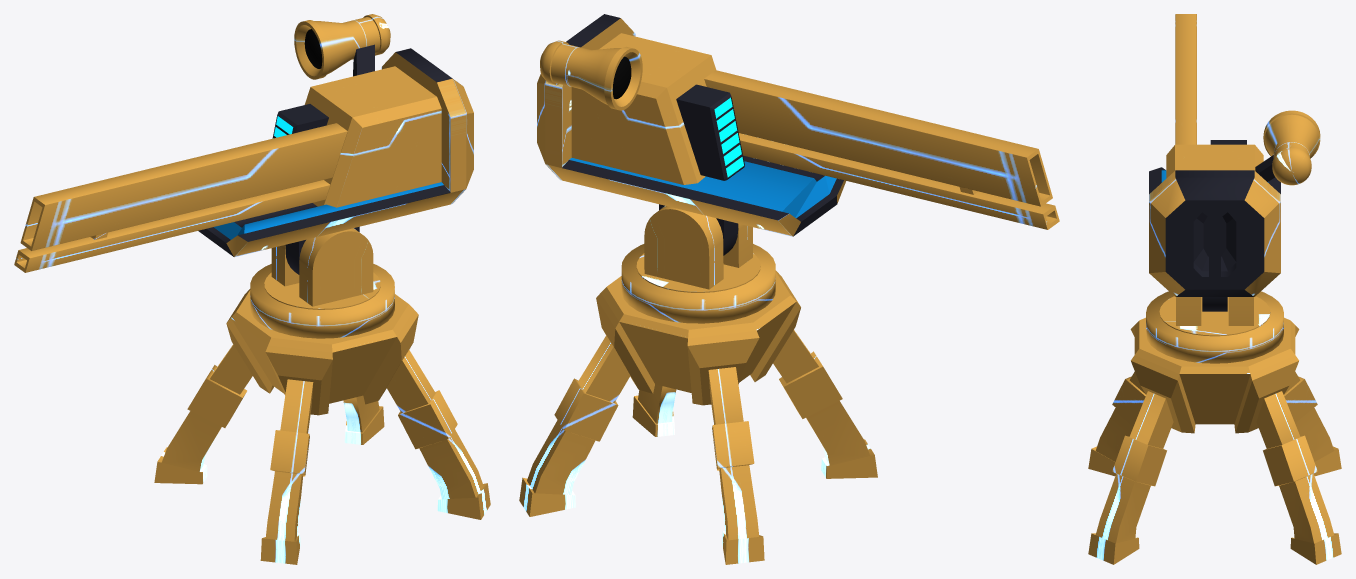
File: RailgunTurret.fbx
3 views of the same model, side by side, from view 1: azimuth 30°, elevation 25°; view 2: azimuth 150°, elevation 25°; view 3: azimuth 270°, elevation 25° (orthographic). The views are drawn at different scales.
Parts seen in each view (by area): view 1: Cube.004, Cube.003, Cube.001, Cube, Cylinder.001, Cylinder.002, Cylinder.005, Cube.006; view 2: Cube.004, Cube.003, Cube.001, Cylinder.001, Cube, Cylinder.002, Cylinder.005, Cube.006; view 3: Cube.003, Cylinder.001, Cube.001, Cylinder.005, Cylinder.002, Cube.004, Cube.
Part boxes in pixels (x1,y1,x2,y2): Cube.004: [14, 123, 347, 272]; Cube.003: [154, 344, 490, 564]; Cube.001: [226, 264, 418, 415]; Cube: [304, 66, 441, 207]; Cylinder.001: [198, 48, 473, 274]; Cylinder.002: [264, 228, 380, 309]; Cylinder.005: [294, 14, 390, 79]; Cube.006: [272, 104, 328, 138]; Cube.004: [704, 70, 1059, 229]; Cube.003: [519, 330, 877, 564]; Cube.001: [596, 244, 800, 405]; Cylinder.001: [537, 14, 845, 255]; Cube: [571, 33, 716, 184]; Cylinder.002: [636, 206, 760, 292]; Cylinder.005: [540, 40, 642, 110]; Cube.006: [676, 84, 744, 180]; Cube.003: [1088, 371, 1341, 564]; Cylinder.001: [1149, 167, 1280, 311]; Cube.001: [1130, 291, 1299, 433]; Cylinder.005: [1255, 110, 1320, 185]; Cylinder.002: [1159, 296, 1270, 336]; Cube.004: [1175, 14, 1196, 144]; Cube: [1166, 144, 1263, 178].
Bounding box in the file's own units: 740 × 693 × 385.
